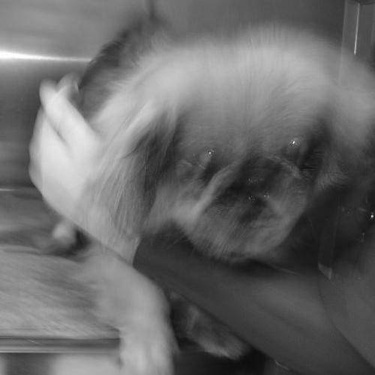dog: (18, 7, 370, 372)
